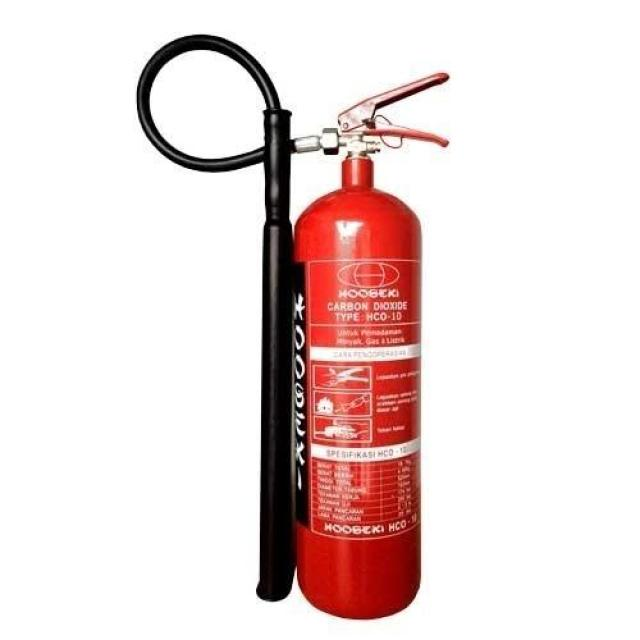fire_extinguisher: (130, 30, 464, 627)
